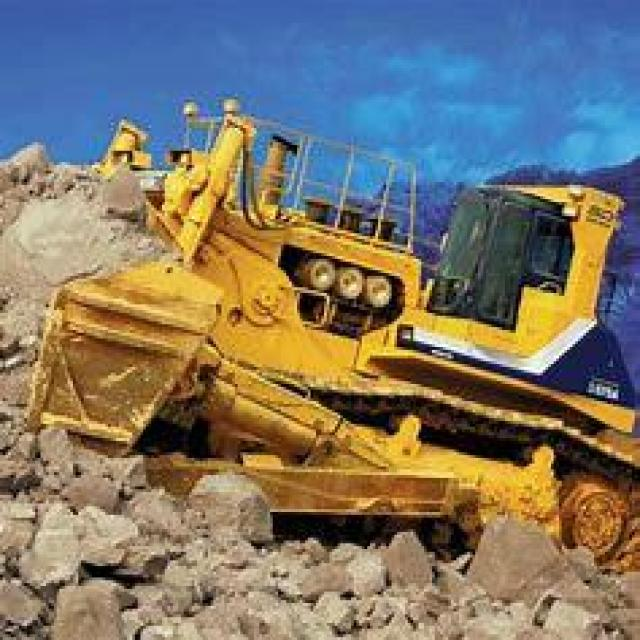Bulldozer: (46, 77, 637, 566)
